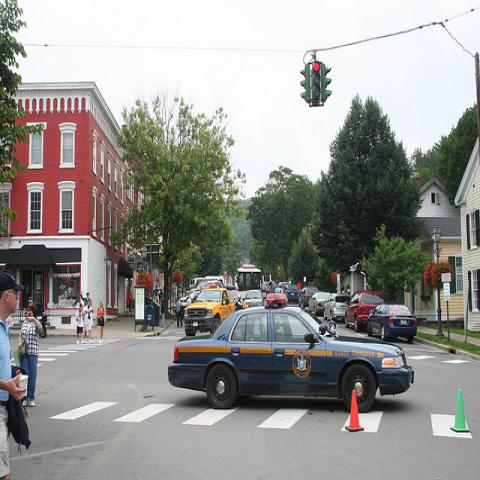bus: (236, 262, 263, 300)
car: (168, 285, 414, 415), (184, 284, 248, 338), (367, 301, 418, 344), (323, 294, 351, 322), (308, 292, 331, 316), (298, 287, 319, 309), (283, 284, 299, 304)
truck: (184, 286, 236, 336), (345, 290, 385, 330)
